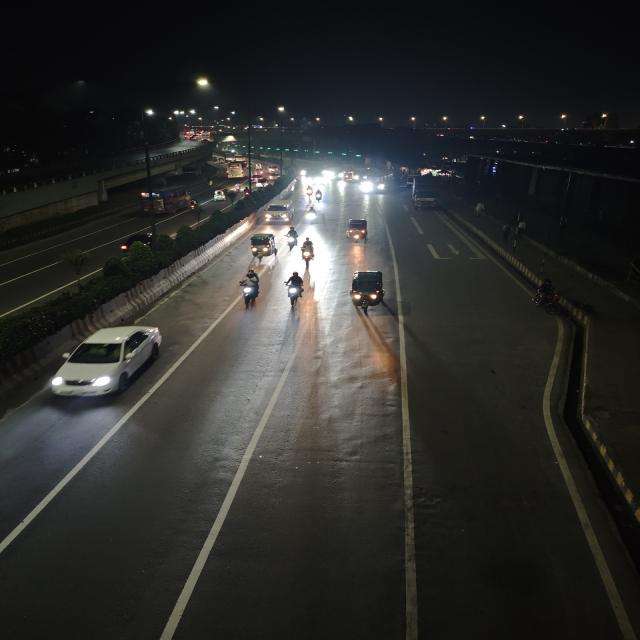bus: (137, 185, 194, 215), (360, 169, 388, 194), (224, 162, 247, 178)
car: (43, 320, 170, 408), (116, 231, 160, 254), (264, 200, 294, 224)
cng: (345, 268, 389, 316), (245, 231, 279, 265), (344, 218, 372, 245), (213, 189, 226, 200)
motorcycle: (530, 278, 569, 319), (233, 268, 263, 312), (282, 269, 306, 309), (299, 236, 319, 268), (284, 226, 300, 250), (304, 205, 318, 226), (205, 175, 215, 187)
truck: (410, 176, 441, 213)
